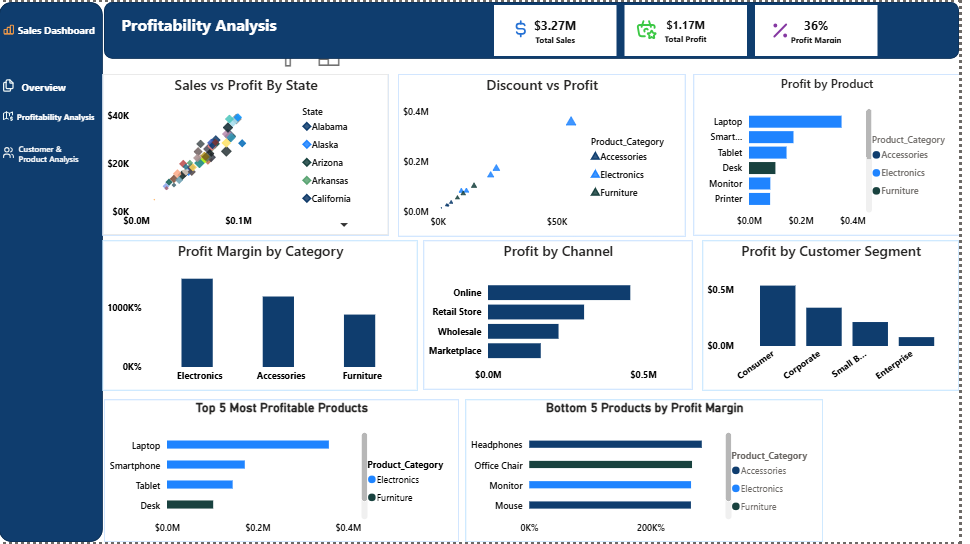

The dashboard page shown, as its layout file describes it:
{"tool":"powerbi","page":{"name":"Page 2","canvas":[1280,720],"ordinal":1},"visuals":[{"type":"shape","box":[0,0,138.3,720],"z":0},{"type":"scatterChart","title":"Sales vs Profit By State","fields":{"Y":["Sum(business_dataset.Profit)"],"X":["Sum(business_dataset.Sales)"],"Size":["Sum(business_dataset.Quantity)"],"Series":["business_dataset.State"]},"box":[138.3,95,381.7,215],"z":1000},{"type":"scatterChart","title":"Discount vs Profit ","fields":{"X":["Sum(business_dataset.Discount_Amount)"],"Y":["Sum(business_dataset.Profit)"],"Size":["Sum(business_dataset.Sales)"],"Category":["business_dataset.Product"],"Series":["business_dataset.Product_Category"]},"box":[531.7,95,383.3,216.7],"z":2000},{"type":"barChart","title":"Profit by Product","fields":{"Category":["business_dataset.Product"],"Y":["Sum(business_dataset.Profit)"],"Series":["business_dataset.Product_Category"]},"box":[925,95,355,215],"z":3000},{"type":"columnChart","title":"Profit Margin by Category","fields":{"Category":["business_dataset.Product_Category"],"Y":["Sum(business_dataset.Profit_Margin_Percent)"]},"box":[138.3,318.3,420,200],"z":4000},{"type":"barChart","title":"Profit by Channel","fields":{"Category":["business_dataset.Sales_Channel"],"Y":["Sum(business_dataset.Profit)"]},"box":[566.7,318.3,358.3,198.3],"z":5000},{"type":"columnChart","title":"Profit by Customer Segment","fields":{"Category":["business_dataset.Customer_Segment"],"Y":["Sum(business_dataset.Profit)"]},"box":[938.3,318.3,341.7,200],"z":6000},{"type":"barChart","title":"Top 5 Most Profitable Products","fields":{"Category":["business_dataset.Product"],"Y":["Sum(business_dataset.Profit)"],"Series":["business_dataset.Product_Category"]},"box":[140,530,473.3,190],"z":7000},{"type":"barChart","title":"Bottom 5 Products by Profit Margin","fields":{"Category":["business_dataset.Product"],"Y":["Sum(business_dataset.Profit_Margin_Percent)"],"Series":["business_dataset.Product_Category"]},"box":[621.7,530,476.7,190],"z":8000},{"type":"shape","box":[140,0,1140,75.7],"z":9000},{"type":"textbox","box":[158.6,10,435.7,47.1],"z":10000},{"type":"cardVisual","fields":{"Data":["Sheet1.Total Sales"]},"box":[660,4.3,163,68],"z":11000},{"type":"cardVisual","fields":{"Data":["Sheet1.Total Profit"]},"box":[834.3,4.3,163,68],"z":12000},{"type":"cardVisual","fields":{"Data":["Sheet1.Profit Margin"]},"box":[1008.6,4.3,163,68],"z":13000},{"type":"image","box":[4,28,18,17],"z":14000},{"type":"image","box":[2.9,100,20,22.9],"z":15000},{"type":"image","box":[4.3,138.6,15.7,27.1],"z":16000},{"type":"image","box":[4.3,192.9,17.1,17.1],"z":17000},{"type":"image","box":[682.9,17.1,27.1,35.7],"z":18000},{"type":"image","box":[848.6,10,30,51.4],"z":19000},{"type":"image","box":[1025.7,18.6,31.4,40],"z":20000},{"type":"actionButton","box":[11.7,16.7,120,40],"z":21000},{"type":"actionButton","box":[18.3,131.7,113.3,40],"z":22000},{"type":"actionButton","box":[25,91.7,100,40],"z":23000},{"type":"actionButton","box":[22.9,182.9,100,40],"z":24000}]}

Visuals, with their boxes on the page's 1280x720 design canvas (x1, y1, x2, y2). These are canvas units, not pixel positions in the 970x544 screenshot, which may show the page scaled, cropped or inside an application window:
shape: {"x1": 0, "y1": 0, "x2": 138, "y2": 720}
"Sales vs Profit By State" scatterChart: {"x1": 138, "y1": 95, "x2": 520, "y2": 310}
"Discount vs Profit " scatterChart: {"x1": 532, "y1": 95, "x2": 915, "y2": 312}
"Profit by Product" barChart: {"x1": 925, "y1": 95, "x2": 1280, "y2": 310}
"Profit Margin by Category" columnChart: {"x1": 138, "y1": 318, "x2": 558, "y2": 518}
"Profit by Channel" barChart: {"x1": 567, "y1": 318, "x2": 925, "y2": 517}
"Profit by Customer Segment" columnChart: {"x1": 938, "y1": 318, "x2": 1280, "y2": 518}
"Top 5 Most Profitable Products" barChart: {"x1": 140, "y1": 530, "x2": 613, "y2": 720}
"Bottom 5 Products by Profit Margin" barChart: {"x1": 622, "y1": 530, "x2": 1098, "y2": 720}
shape: {"x1": 140, "y1": 0, "x2": 1280, "y2": 76}
textbox: {"x1": 159, "y1": 10, "x2": 594, "y2": 57}
cardVisual - Sheet1.Total Sales: {"x1": 660, "y1": 4, "x2": 823, "y2": 72}
cardVisual - Sheet1.Total Profit: {"x1": 834, "y1": 4, "x2": 997, "y2": 72}
cardVisual - Sheet1.Profit Margin: {"x1": 1009, "y1": 4, "x2": 1172, "y2": 72}
image: {"x1": 4, "y1": 28, "x2": 22, "y2": 45}
image: {"x1": 3, "y1": 100, "x2": 23, "y2": 123}
image: {"x1": 4, "y1": 139, "x2": 20, "y2": 166}
image: {"x1": 4, "y1": 193, "x2": 21, "y2": 210}
image: {"x1": 683, "y1": 17, "x2": 710, "y2": 53}
image: {"x1": 849, "y1": 10, "x2": 879, "y2": 61}
image: {"x1": 1026, "y1": 19, "x2": 1057, "y2": 59}
actionButton: {"x1": 12, "y1": 17, "x2": 132, "y2": 57}
actionButton: {"x1": 18, "y1": 132, "x2": 132, "y2": 172}
actionButton: {"x1": 25, "y1": 92, "x2": 125, "y2": 132}
actionButton: {"x1": 23, "y1": 183, "x2": 123, "y2": 223}
